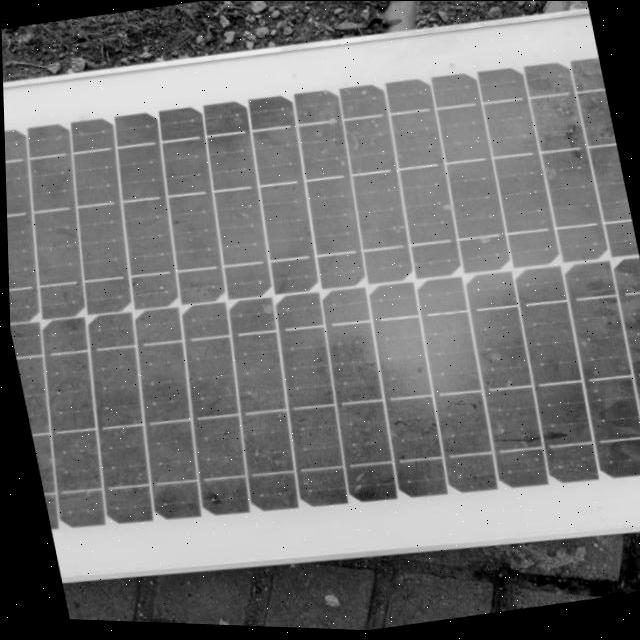Surface Contaminant: (3, 35, 640, 569)
